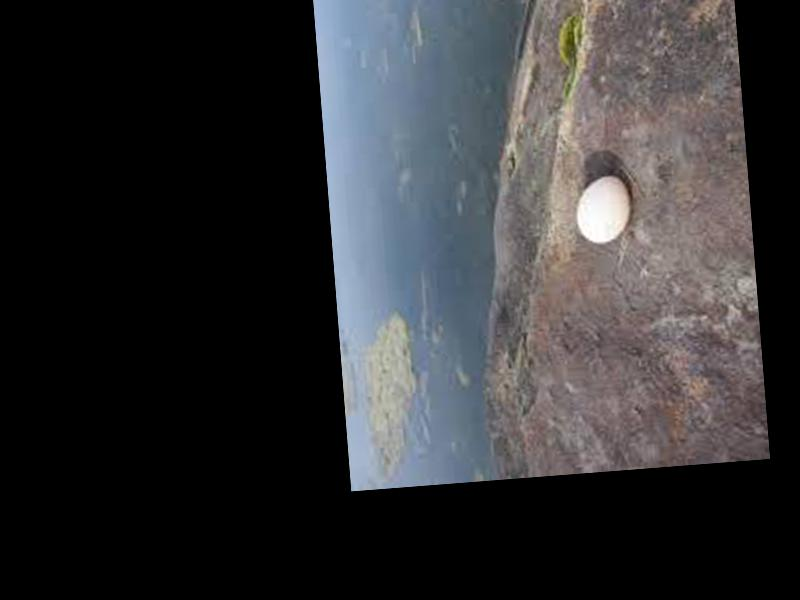Eggs: (572, 175, 632, 248)
